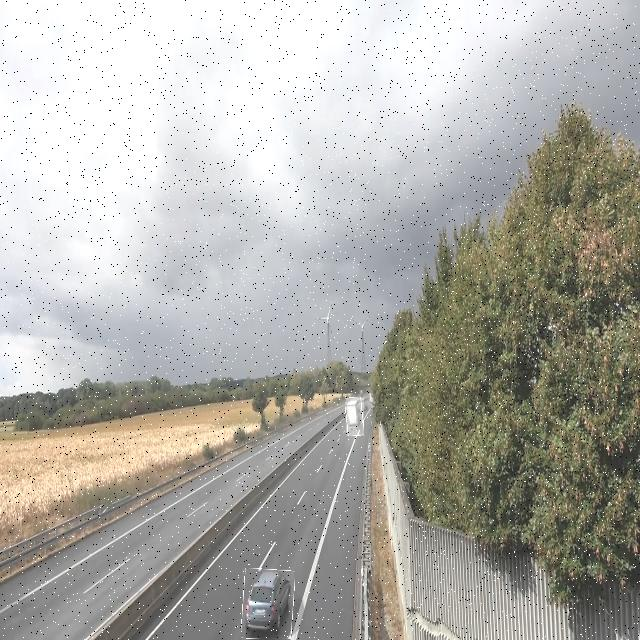Car: (242, 569, 294, 640)
Truck: (346, 398, 364, 436)
